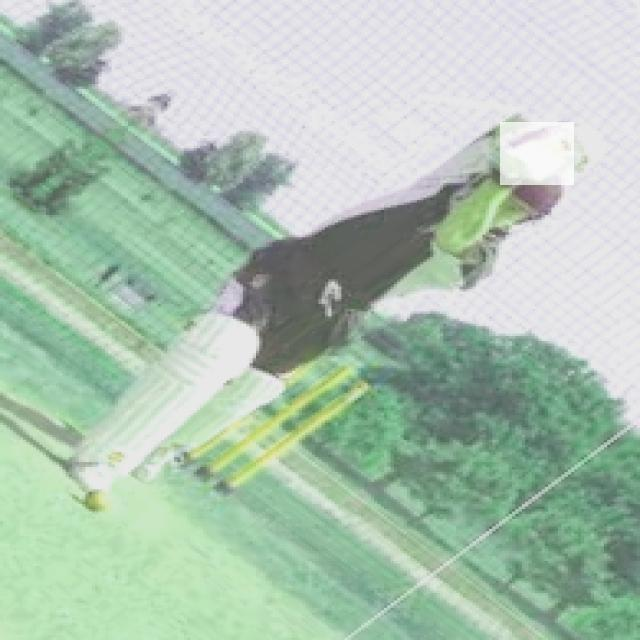bat: (500, 123, 577, 188)
